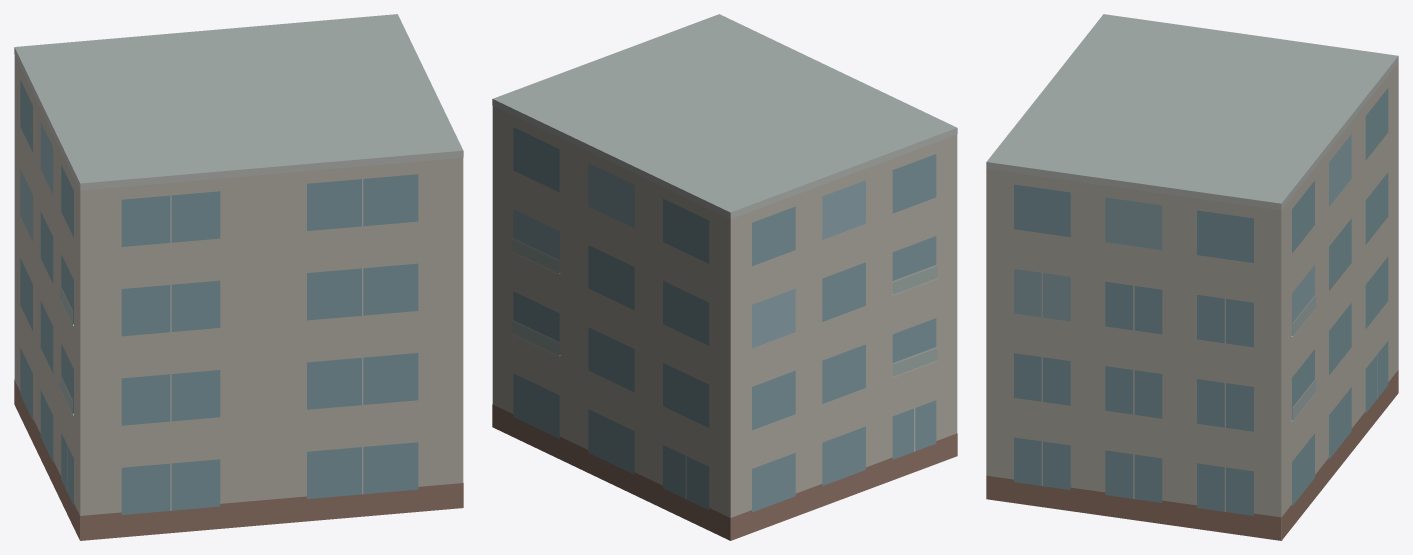
Rendered from residential-e35cb2cd-c018-49b1-91b7-6b6dfdd4a2e9.glb.
3 renders of one model, left to right at view 1: azimuth 30°, elevation 25°; view 2: azimuth 150°, elevation 25°; view 3: azimuth 270°, elevation 25°, orthographic. The views are drawn at different scales.
Visible parts, largest first — view 1: residential-e35cb2cd-c018-49b1-91b7-6b6dfdd4a2e9.tmp; view 2: residential-e35cb2cd-c018-49b1-91b7-6b6dfdd4a2e9.tmp; view 3: residential-e35cb2cd-c018-49b1-91b7-6b6dfdd4a2e9.tmp.
Part boxes in pixels (x1=…): residential-e35cb2cd-c018-49b1-91b7-6b6dfdd4a2e9.tmp: x1=14, y1=14, x2=463, y2=540; residential-e35cb2cd-c018-49b1-91b7-6b6dfdd4a2e9.tmp: x1=492, y1=14, x2=957, y2=540; residential-e35cb2cd-c018-49b1-91b7-6b6dfdd4a2e9.tmp: x1=986, y1=14, x2=1398, y2=540.
Bounding box in the file's own units: 14.72 × 12.2 × 13.53.
